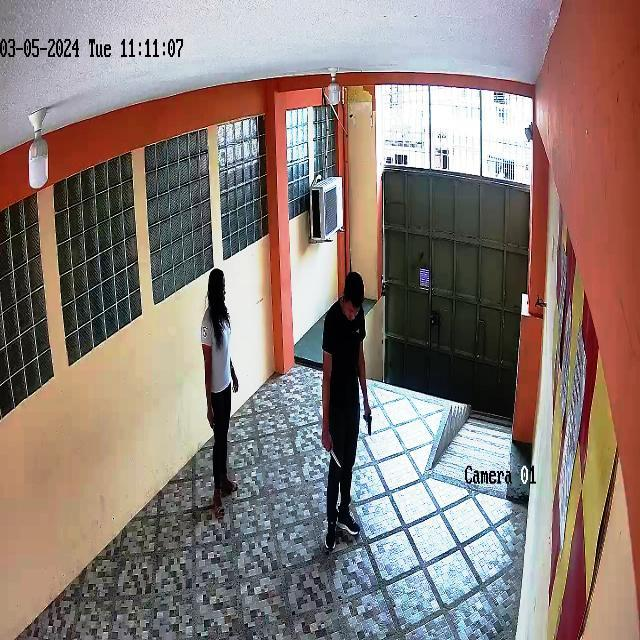Gun: (363, 409, 385, 443)
Knife: (318, 440, 349, 474)
